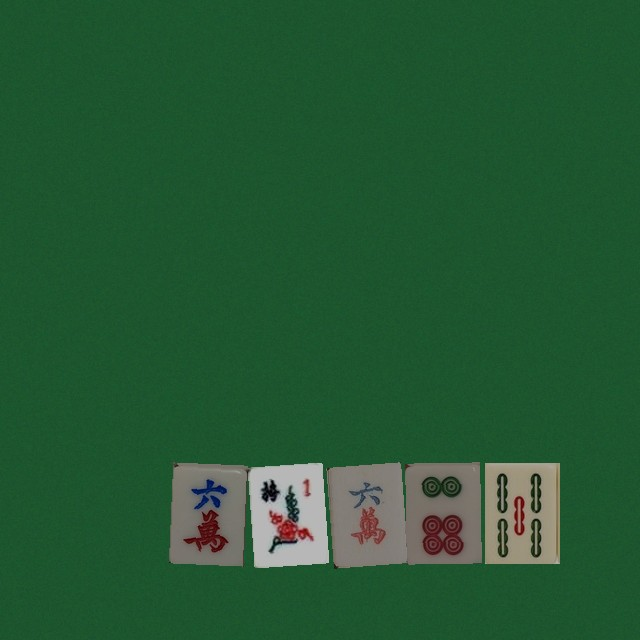tile: (168, 462, 243, 563), (247, 462, 322, 563), (326, 462, 401, 563), (405, 462, 480, 563), (484, 462, 559, 563)
